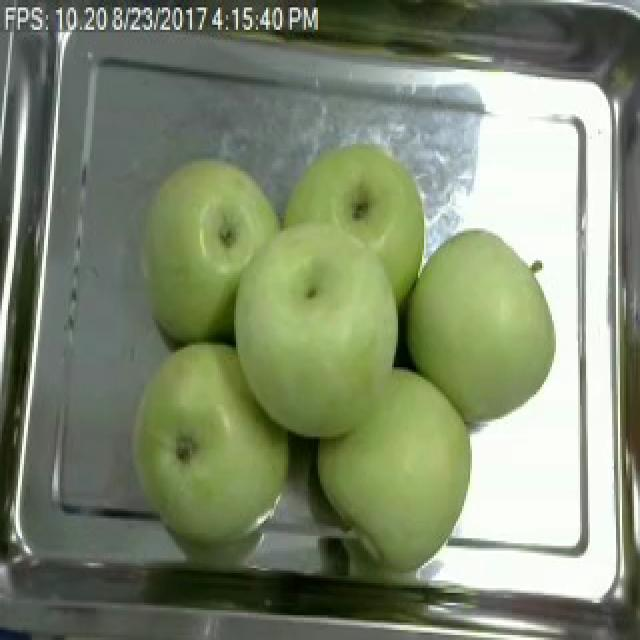50-_ripeness: (124, 331, 292, 542), (236, 227, 398, 433), (412, 223, 565, 407), (140, 152, 275, 338)
